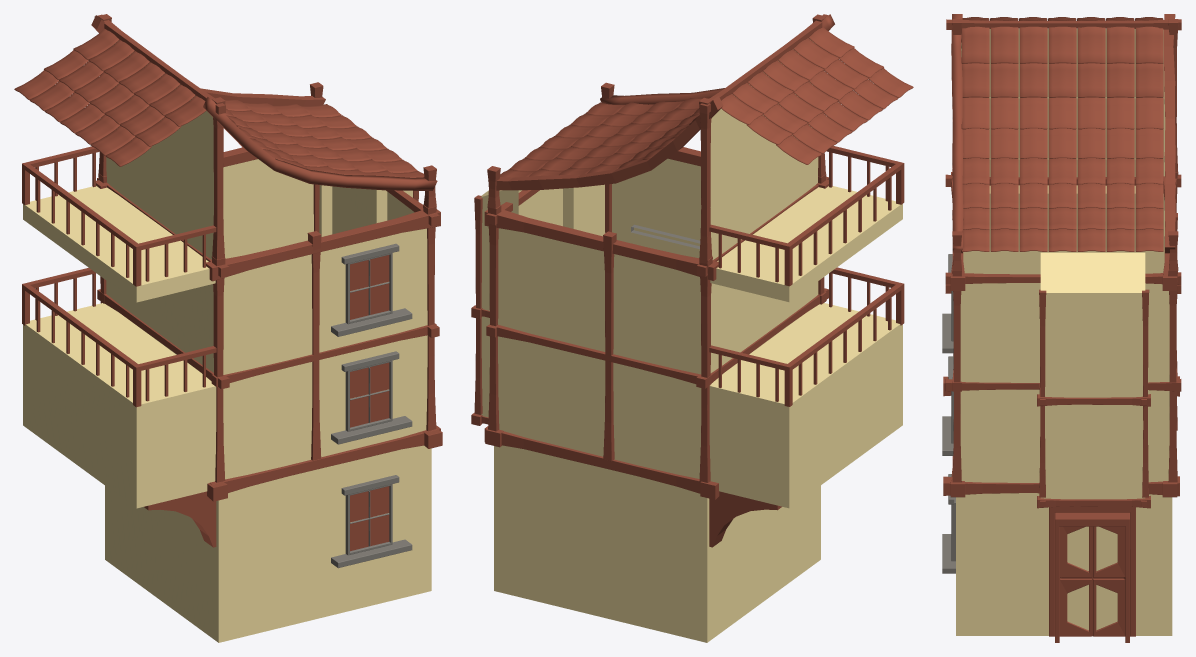
The model's file is house_3.fbx.
3 renders of one model, left to right at view 1: azimuth 30°, elevation 25°; view 2: azimuth 150°, elevation 25°; view 3: azimuth 270°, elevation 25°, orthographic. The views are drawn at different scales.
Visible parts, largest first — view 1: Plane.038; view 2: Plane.038; view 3: Plane.038.
Boxes of the visible parts, box(x1,y1,x2,y2) form: Plane.038: box(14, 14, 442, 642); Plane.038: box(471, 14, 913, 642); Plane.038: box(942, 14, 1181, 642).
Bounding box in the file's own units: 700 × 1060 × 443.
